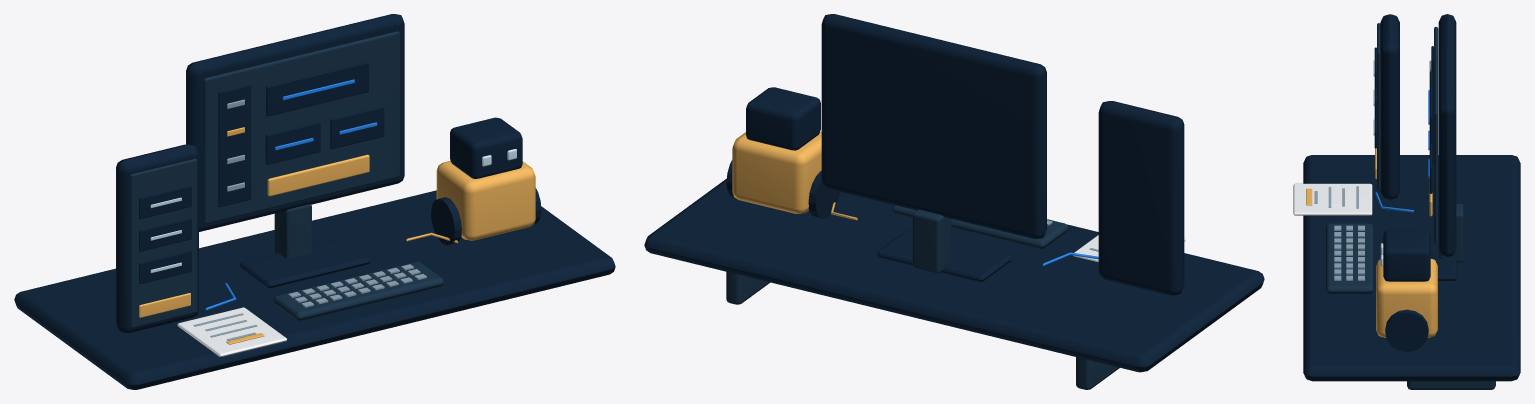
Rendered from about-hero.glb.
The picture shows the model from 3 angles, left to right: view 1: azimuth 30°, elevation 25°; view 2: azimuth 150°, elevation 25°; view 3: azimuth 270°, elevation 25°; orthographic projection. The views are drawn at different scales.
Parts seen in each view (by area): view 1: Workbench slab, Monitor display, Interface monitor, Phone glass, Robot body, Phone body, Monitor rail, Keyboard, Robot upper, Monitor foot, Interface panel, Document (+9 smaller); view 2: Workbench slab, Interface monitor, Phone body, Robot body, Robot upper, Monitor foot, Monitor stand, Keyboard, Robot wheel, Workbench feet.001, Workbench feet; view 3: Workbench slab, Interface monitor, Phone body, Robot body, Keyboard, Robot upper, Document, Robot wheel.001, Monitor display, Workbench feet.001, Phone glass, Monitor foot (+3 smaller).
Boxes of the visible parts, box(x1,y1,x2,y2) form: Workbench slab: box(14, 190, 615, 389); Monitor display: box(203, 31, 399, 223); Interface monitor: box(186, 14, 404, 231); Phone glass: box(130, 158, 197, 327); Robot body: box(436, 161, 535, 240); Phone body: box(116, 144, 198, 332); Monitor rail: box(218, 84, 251, 207); Keyboard: box(273, 261, 443, 320); Robot upper: box(450, 117, 522, 178); Monitor foot: box(240, 238, 370, 287); Interface panel: box(266, 61, 368, 116); Document: box(177, 307, 286, 356); Workbench slab: box(644, 178, 1264, 372); Interface monitor: box(821, 14, 1046, 238); Phone body: box(1098, 101, 1184, 295); Robot body: box(732, 131, 821, 213); Robot upper: box(746, 87, 820, 150); Monitor foot: box(877, 230, 1011, 281); Monitor stand: box(912, 209, 951, 273); Keyboard: box(892, 205, 1067, 248); Robot wheel: box(808, 170, 839, 218); Workbench feet.001: box(726, 271, 770, 304); Workbench feet: box(1076, 357, 1119, 389); Workbench slab: box(1303, 155, 1520, 381); Interface monitor: box(1438, 14, 1456, 256); Phone body: box(1380, 14, 1399, 199); Robot body: box(1376, 258, 1437, 337); Keyboard: box(1326, 223, 1373, 293); Robot upper: box(1383, 229, 1430, 281); Document: box(1293, 183, 1372, 215); Robot wheel.001: box(1385, 309, 1428, 351); Monitor display: box(1434, 27, 1438, 244); Workbench feet.001: box(1407, 381, 1495, 389); Phone glass: box(1377, 23, 1380, 190); Monitor foot: box(1429, 231, 1456, 280).
Size of the model in its own units: 5.2 by 2.85 by 2.3.
